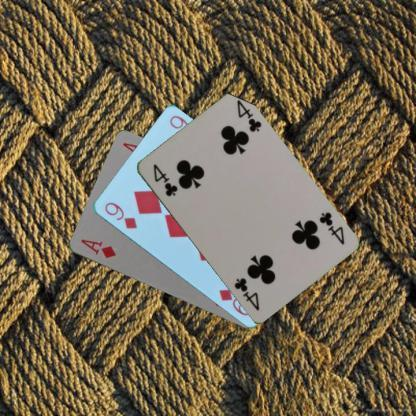4c: (150, 160, 180, 198), (316, 209, 346, 246)
9d: (102, 200, 138, 231)
Ad: (78, 236, 116, 260)
